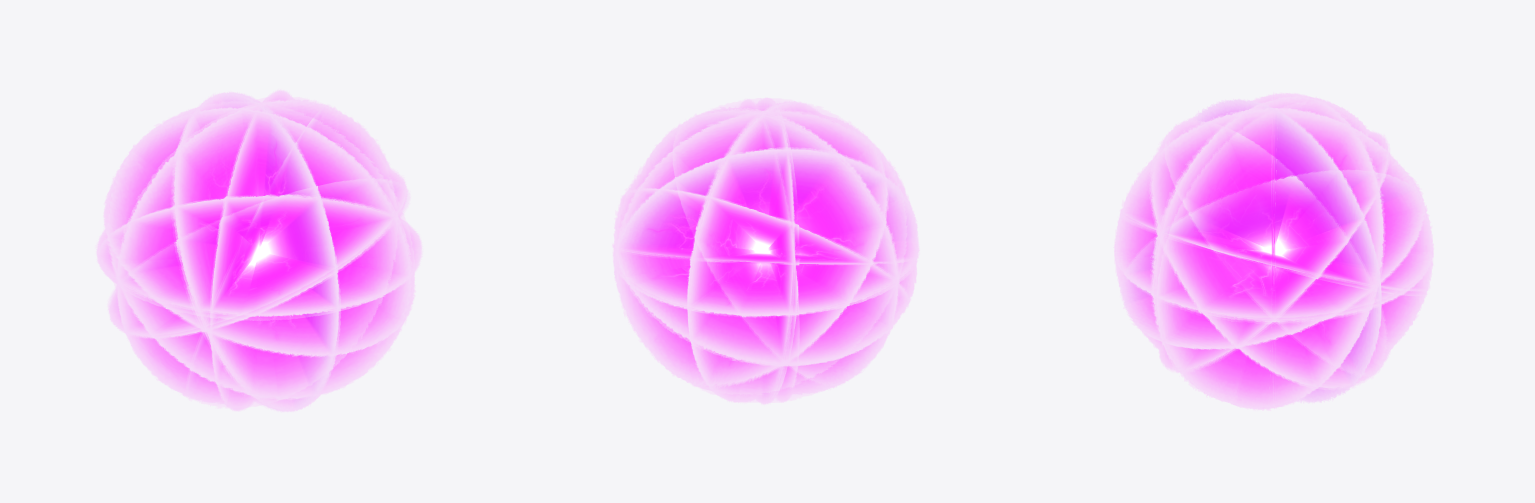
The model's file is uttm_core_accurate.glb.
3 renders of one model, left to right at view 1: azimuth 30°, elevation 25°; view 2: azimuth 150°, elevation 25°; view 3: azimuth 270°, elevation 25°, orthographic. The views are drawn at different scales.
Visible parts, largest first — view 1: Plane_32_3, Plane_60_129, Plane_54_109, Plane_2_11, Plane_58_119, Plane_36_79, Plane_1_7, Plane_19_47, Plane_40_69, Plane_50_105, Plane_46_95, Plane_44_93 (+20 smaller); view 2: Plane_64_67, Plane_26_55, Plane_7_13, Plane_18_41, Plane_33_71, Plane_13_33, Plane_34_75, Plane_38_81, Plane_22_45, Plane_3_9, Plane_56_117, Plane_8_5 (+18 smaller); view 3: Plane_21_49, Plane_53_113, Plane_38_81, Plane_19_47, Plane_20_51, Plane_29_63, Plane_44_93, Plane_61_127, Plane_45_97, Plane_46_95, Plane_6_17, Plane_48_103 (+14 smaller).
Boxes of the visible parts, x1,y1,x2,y2 form: Plane_32_3: (259,136,326,321); Plane_60_129: (146,259,382,339); Plane_54_109: (246,132,385,309); Plane_2_11: (148,131,245,259); Plane_58_119: (172,224,371,319); Plane_36_79: (158,205,374,250); Plane_1_7: (141,150,232,358); Plane_19_47: (219,134,258,297); Plane_40_69: (189,169,256,367); Plane_50_105: (168,225,367,322); Plane_46_95: (273,244,375,377); Plane_44_93: (152,206,361,231); Plane_64_67: (640,164,812,248); Plane_26_55: (765,139,875,259); Plane_7_13: (701,178,764,357); Plane_18_41: (772,144,863,237); Plane_33_71: (682,308,861,345); Plane_13_33: (685,202,873,275); Plane_34_75: (639,254,827,340); Plane_38_81: (692,202,779,343); Plane_22_45: (711,262,873,304); Plane_3_9: (650,266,770,303); Plane_56_117: (736,168,822,209); Plane_8_5: (704,137,763,318); Plane_21_49: (1174,133,1274,289); Plane_53_113: (1235,151,1357,279); Plane_38_81: (1145,183,1385,295); Plane_19_47: (1274,131,1353,243); Plane_20_51: (1275,137,1361,265); Plane_29_63: (1175,137,1272,321); Plane_44_93: (1184,250,1307,365); Plane_61_127: (1245,155,1355,278); Plane_45_97: (1171,175,1303,355); Plane_46_95: (1192,186,1390,235); Plane_6_17: (1183,167,1325,348); Plane_48_103: (1241,175,1360,384).
Size of the model in its own units: 1.41 by 1.41 by 1.41.
Materials: 1 (1 with a texture image).
